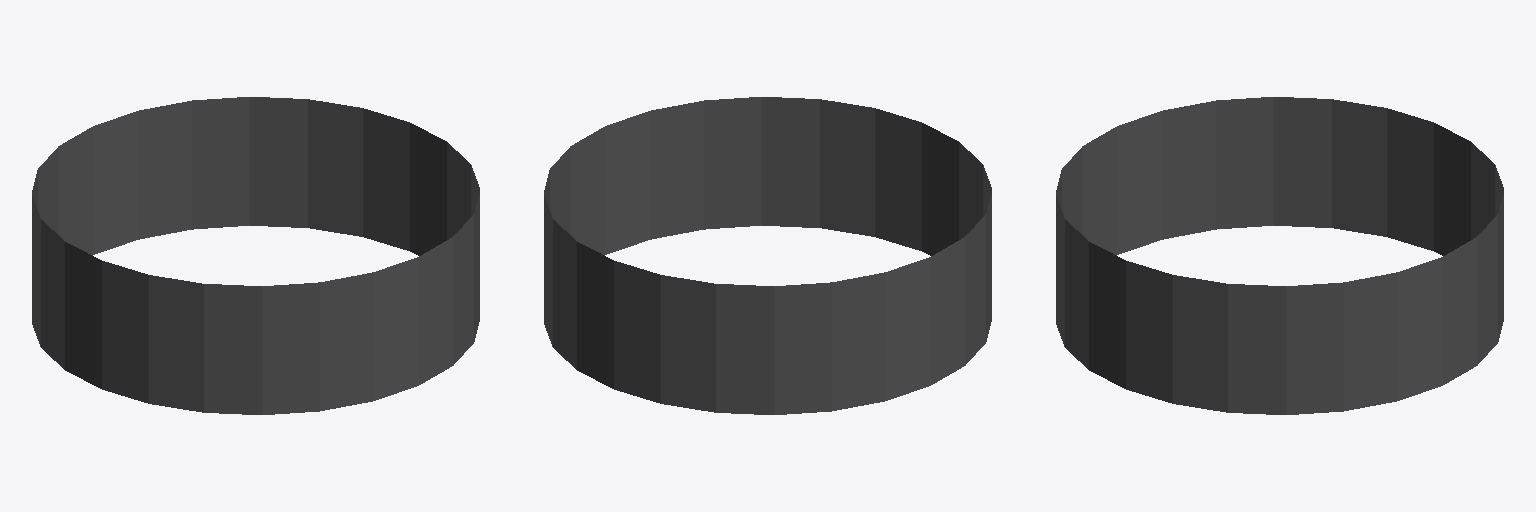
Rendered from original-127.obj.
The picture shows the model from 3 angles: view 1: azimuth 30°, elevation 25°; view 2: azimuth 150°, elevation 25°; view 3: azimuth 270°, elevation 25°; orthographic projection.
Visible parts, largest first — view 1: 3dw.47c68395a5775e10d9deb3f829cc2475/Model/Component_18_1/Compon; view 2: 3dw.47c68395a5775e10d9deb3f829cc2475/Model/Component_18_1/Compon; view 3: 3dw.47c68395a5775e10d9deb3f829cc2475/Model/Component_18_1/Compon.
Part boxes in pixels (x1,y1,x2,y2): 3dw.47c68395a5775e10d9deb3f829cc2475/Model/Component_18_1/Compon: (32,97,479,414); 3dw.47c68395a5775e10d9deb3f829cc2475/Model/Component_18_1/Compon: (544,97,991,414); 3dw.47c68395a5775e10d9deb3f829cc2475/Model/Component_18_1/Compon: (1056,97,1503,414).
Bounding box in the file's own units: 0.1028 × 0.0326 × 0.1028.